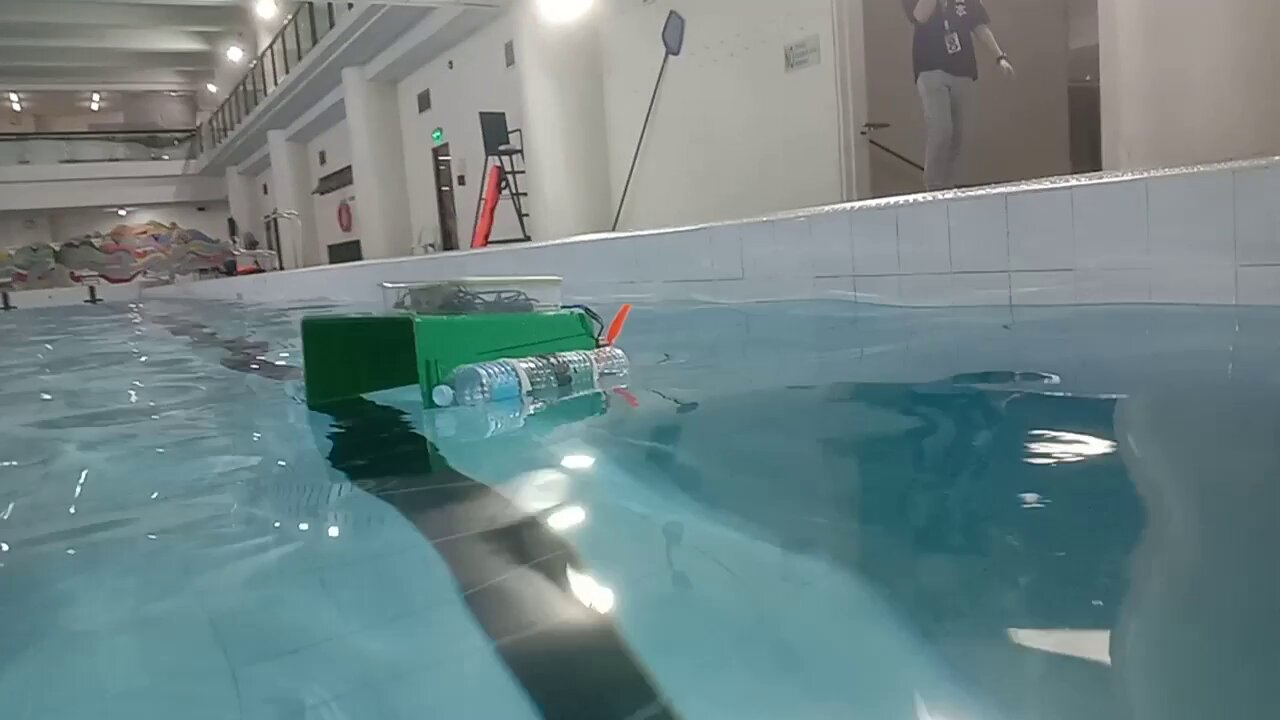drone: (300, 275, 632, 412)
